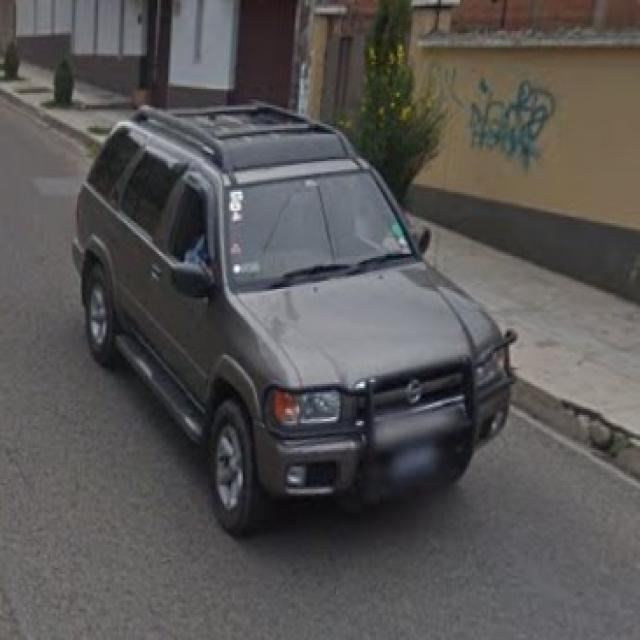car: (71, 100, 512, 532)
